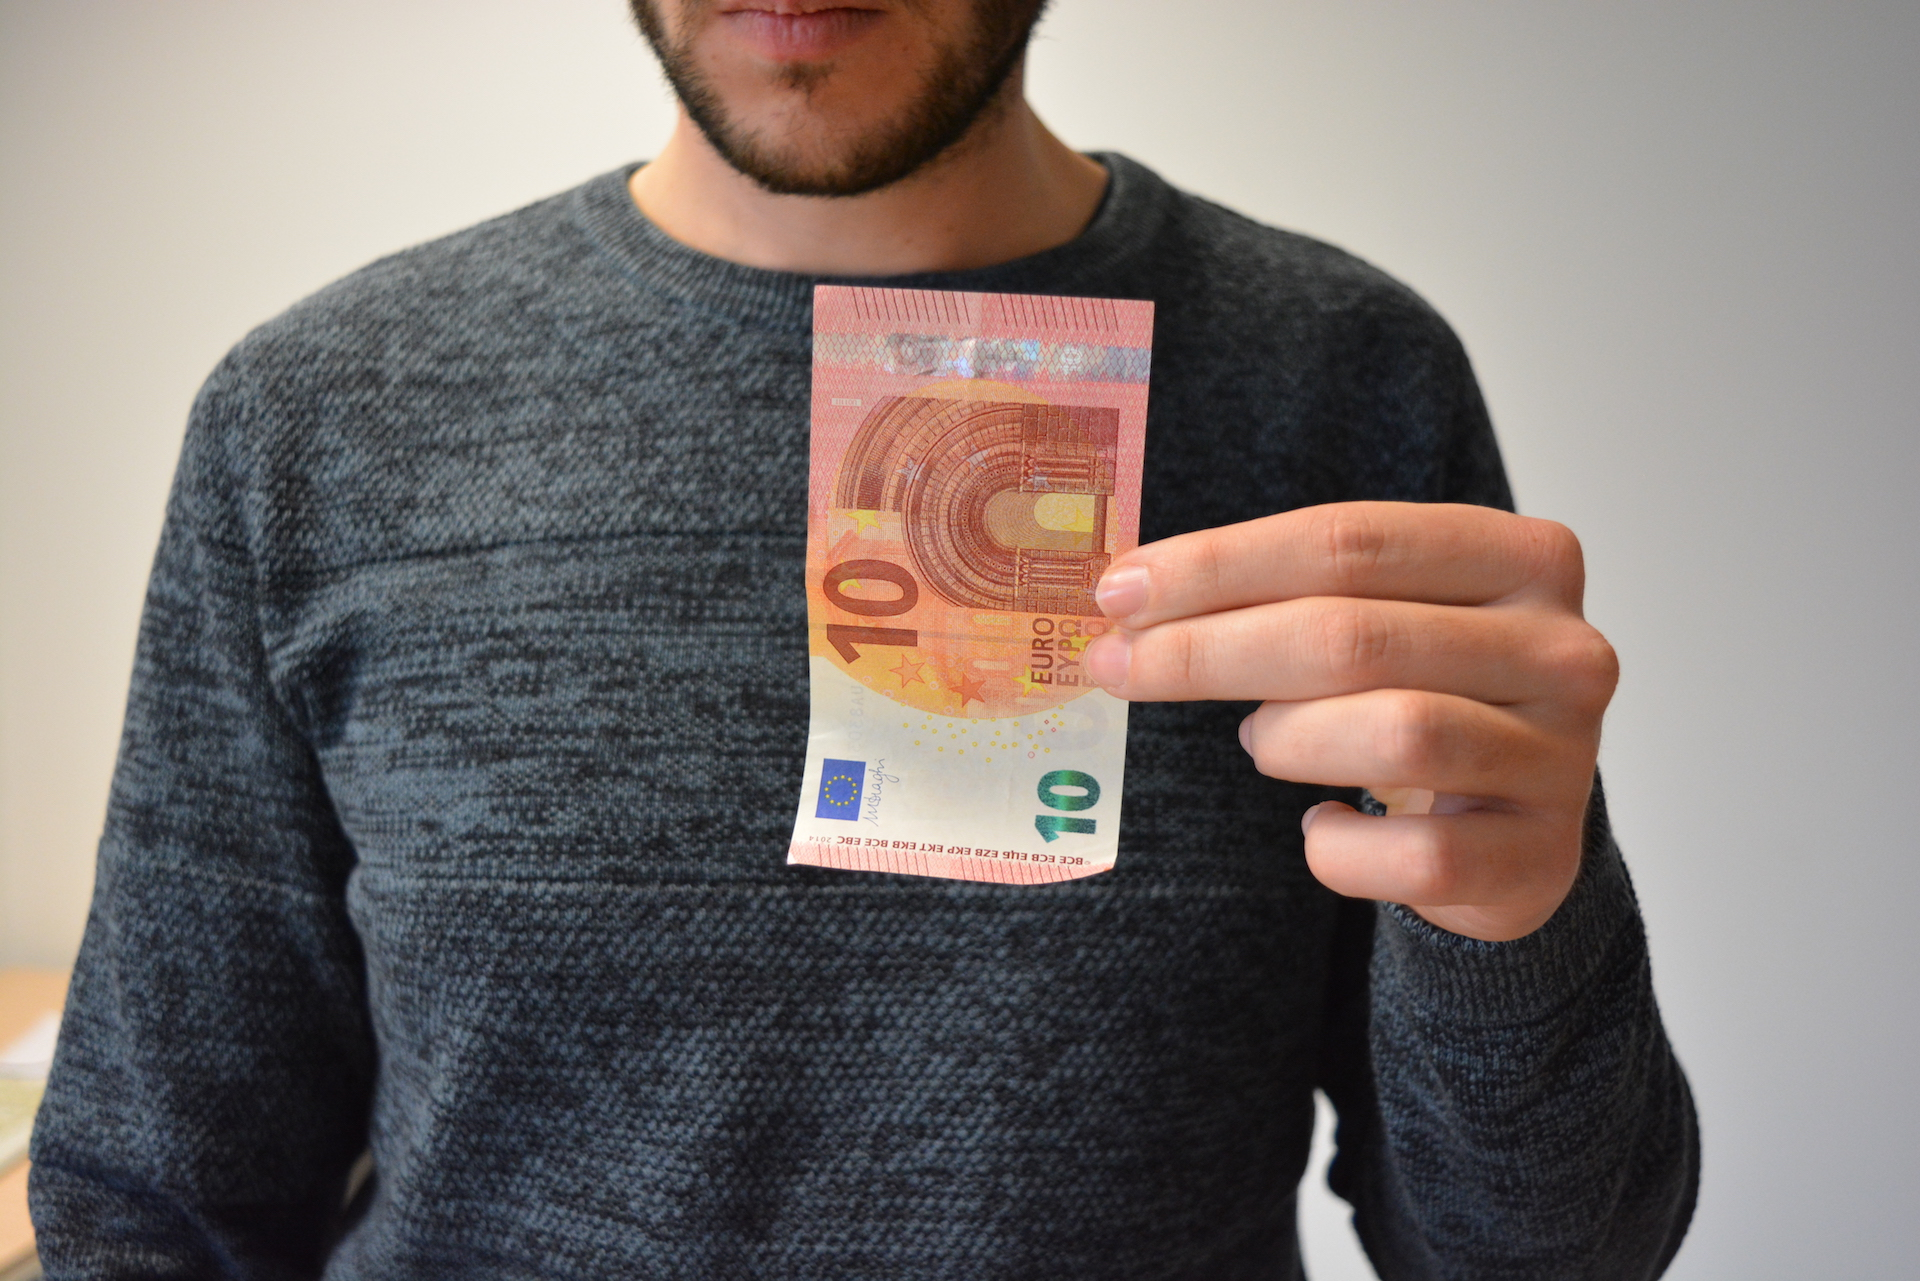billete: (781, 282, 1157, 891)
